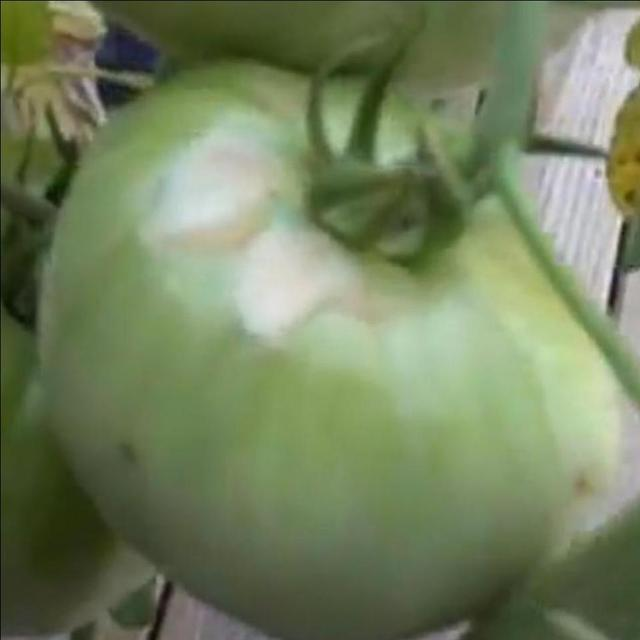Sunscald Fruit: (72, 80, 261, 244)
